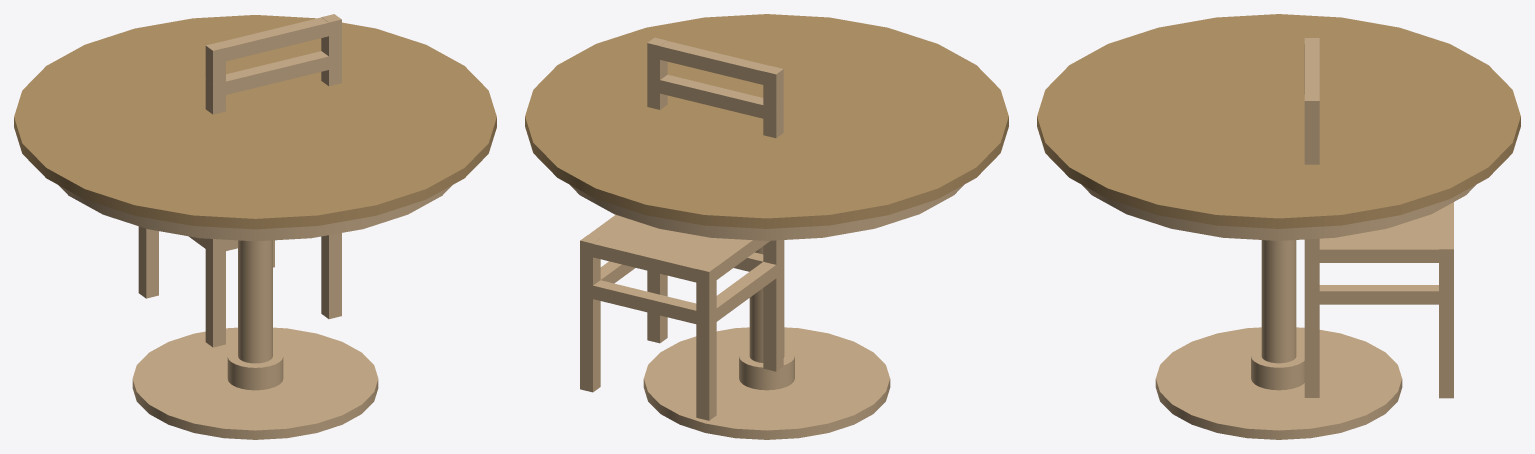
The model's file is table and chair.fbx.
The picture shows the model from 3 angles, left to right: view 1: azimuth 30°, elevation 25°; view 2: azimuth 150°, elevation 25°; view 3: azimuth 270°, elevation 25°; orthographic projection.
Parts seen in each view (by area): view 1: mergedBlocks__defaultMat(Clone)_0.002, mergedBlocks__defaultMat(Clone)_0.001; view 2: mergedBlocks__defaultMat(Clone)_0.002, mergedBlocks__defaultMat(Clone)_0.001; view 3: mergedBlocks__defaultMat(Clone)_0.002, mergedBlocks__defaultMat(Clone)_0.001.
Boxes of the visible parts, bbox=[...] form: mergedBlocks__defaultMat(Clone)_0.002: bbox=[14, 15, 496, 439]; mergedBlocks__defaultMat(Clone)_0.001: bbox=[138, 14, 341, 347]; mergedBlocks__defaultMat(Clone)_0.002: bbox=[525, 14, 1008, 439]; mergedBlocks__defaultMat(Clone)_0.001: bbox=[580, 37, 783, 420]; mergedBlocks__defaultMat(Clone)_0.002: bbox=[1037, 14, 1520, 439]; mergedBlocks__defaultMat(Clone)_0.001: bbox=[1304, 38, 1453, 398].
Size of the model in its own units: 325 by 249 by 325.
